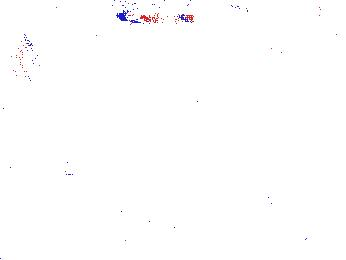X-ray fish: (8, 26, 38, 80)
glassfish: (226, 1, 328, 18)
redtail glassfish: (115, 3, 200, 29)
